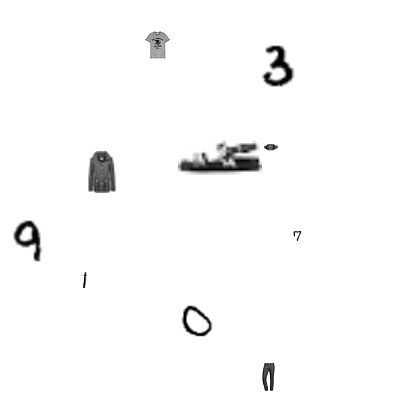0: (173, 300, 215, 342)
1: (73, 269, 95, 291)
3: (250, 38, 306, 94)
7: (290, 227, 304, 241)
9: (0, 209, 56, 265)
Bag: (264, 140, 278, 154)
Coat: (81, 151, 123, 193)
Sandal: (178, 114, 262, 198)
T-shirt/top: (143, 31, 171, 59)
Trouser: (254, 363, 282, 391)
